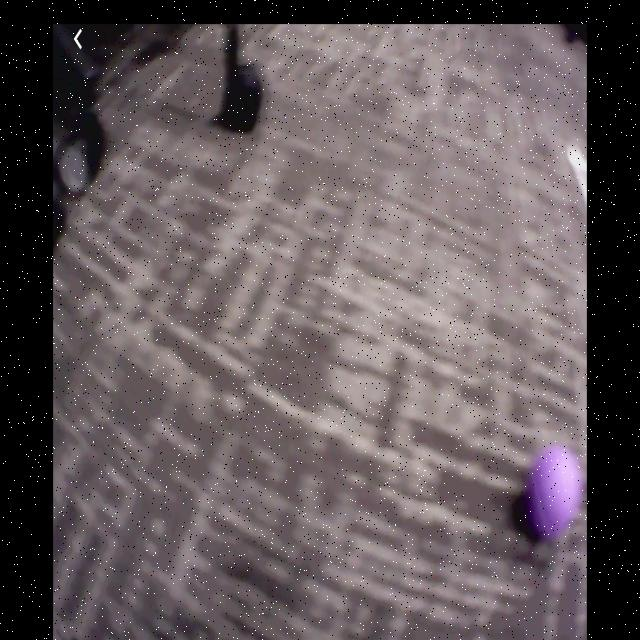ball: (526, 444, 586, 544)
